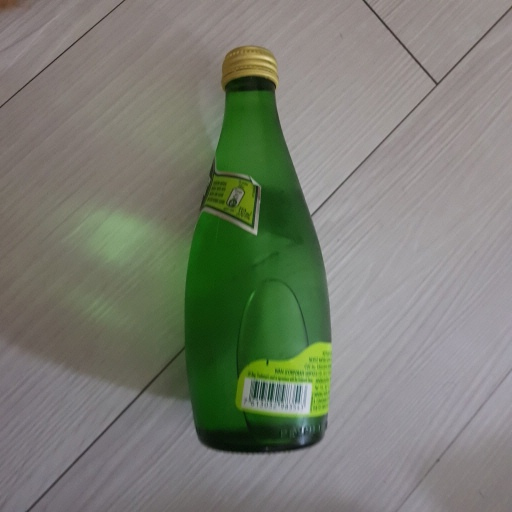Glass_4: (182, 41, 335, 457)
